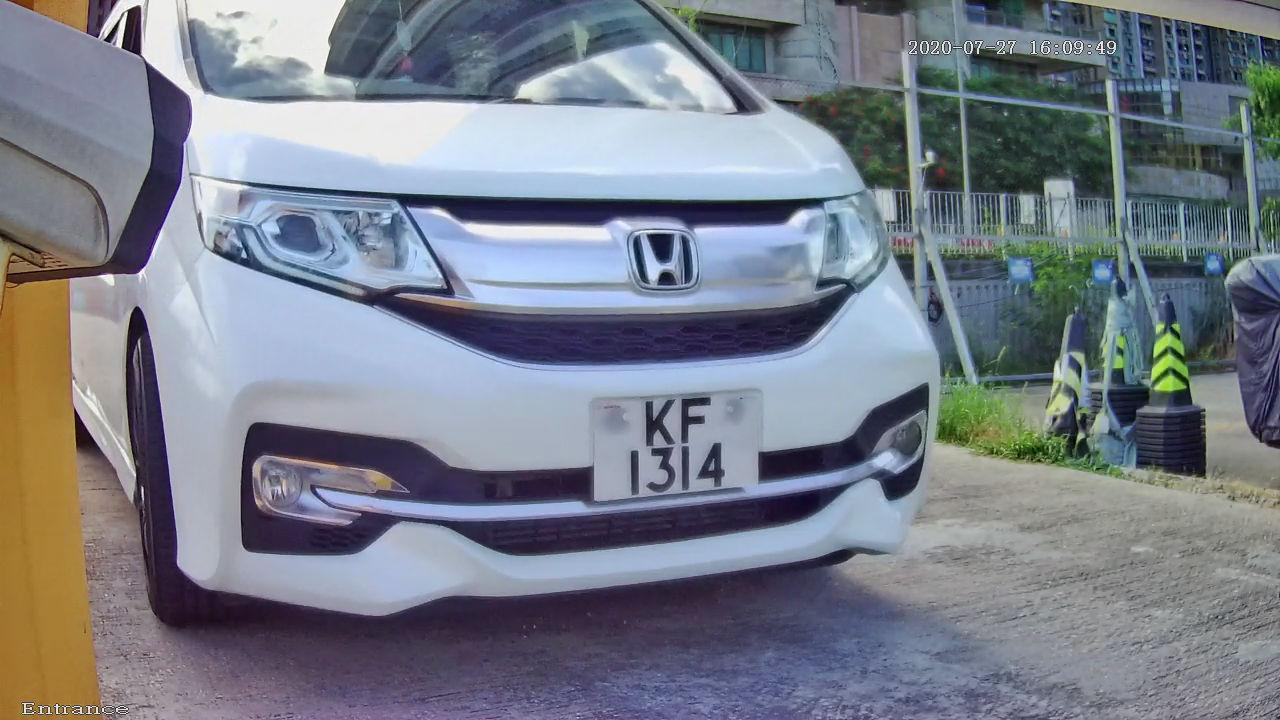privatecar: (46, 13, 1086, 647)
